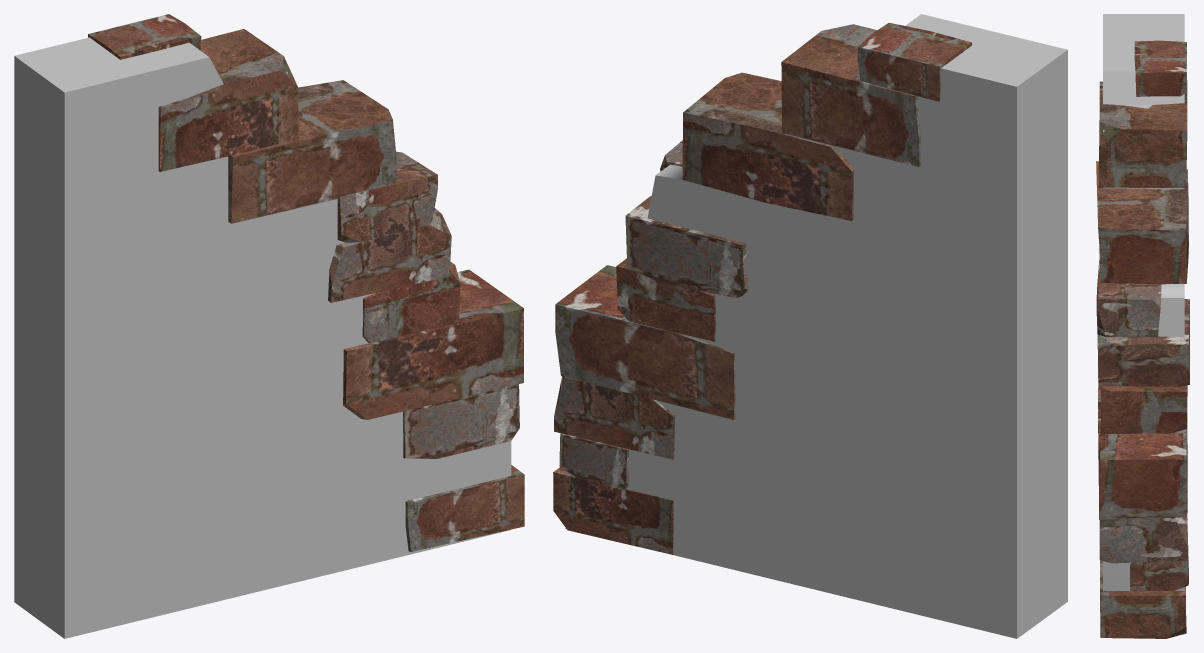
File: SM_Wall_Ruined_26.fbx
The picture shows the model from 3 angles, left to right: view 1: azimuth 30°, elevation 25°; view 2: azimuth 150°, elevation 25°; view 3: azimuth 270°, elevation 25°; orthographic projection. The views are drawn at different scales.
Visible parts, largest first — view 1: SM_Wall_Ruined_26_LOD0; view 2: SM_Wall_Ruined_26_LOD0; view 3: SM_Wall_Ruined_26_LOD0.
Boxes of the visible parts, x1,y1,x2,y2 form: SM_Wall_Ruined_26_LOD0: (14, 14, 524, 638); SM_Wall_Ruined_26_LOD0: (553, 14, 1067, 638); SM_Wall_Ruined_26_LOD0: (1096, 14, 1189, 638).
Size of what is drawn, in the model's own units: 263 by 303 by 57.46.
